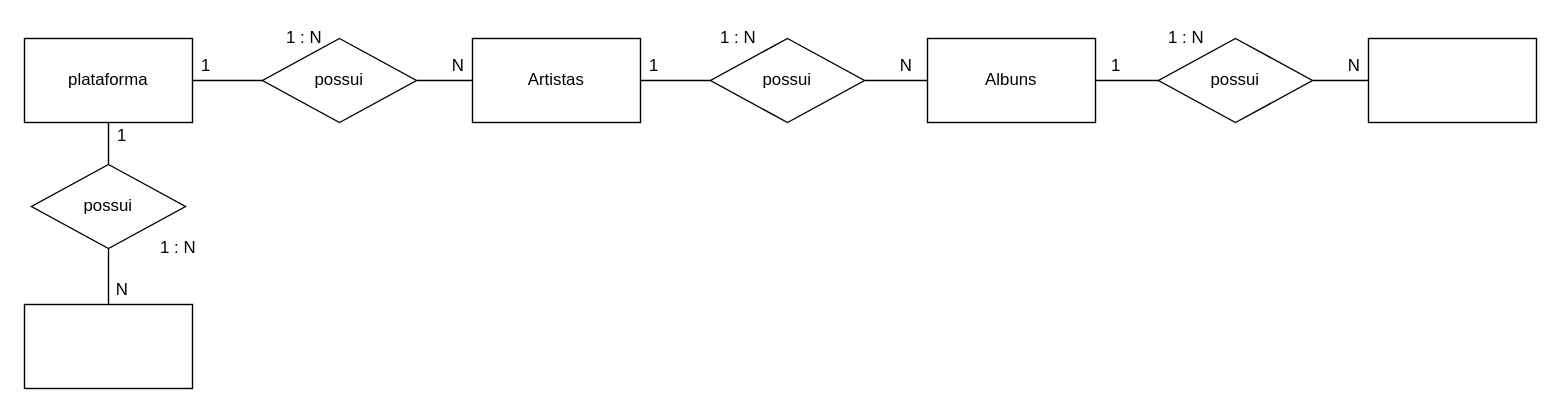
This 1561x414 diagram has some shape labels left out. The centre of each missing label's shape, as x and y in pixels:
estilo: the point at 1451,79
usuário: the point at 107,345
